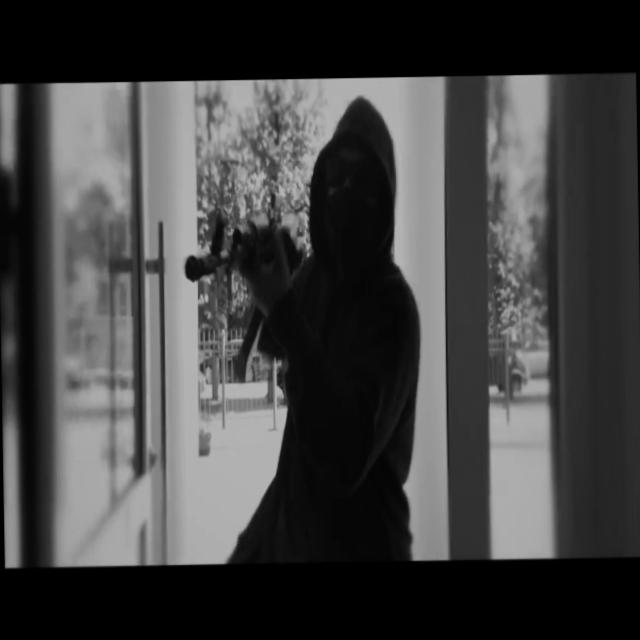gun: (180, 189, 308, 365)
person with a gun: (180, 95, 424, 564)
